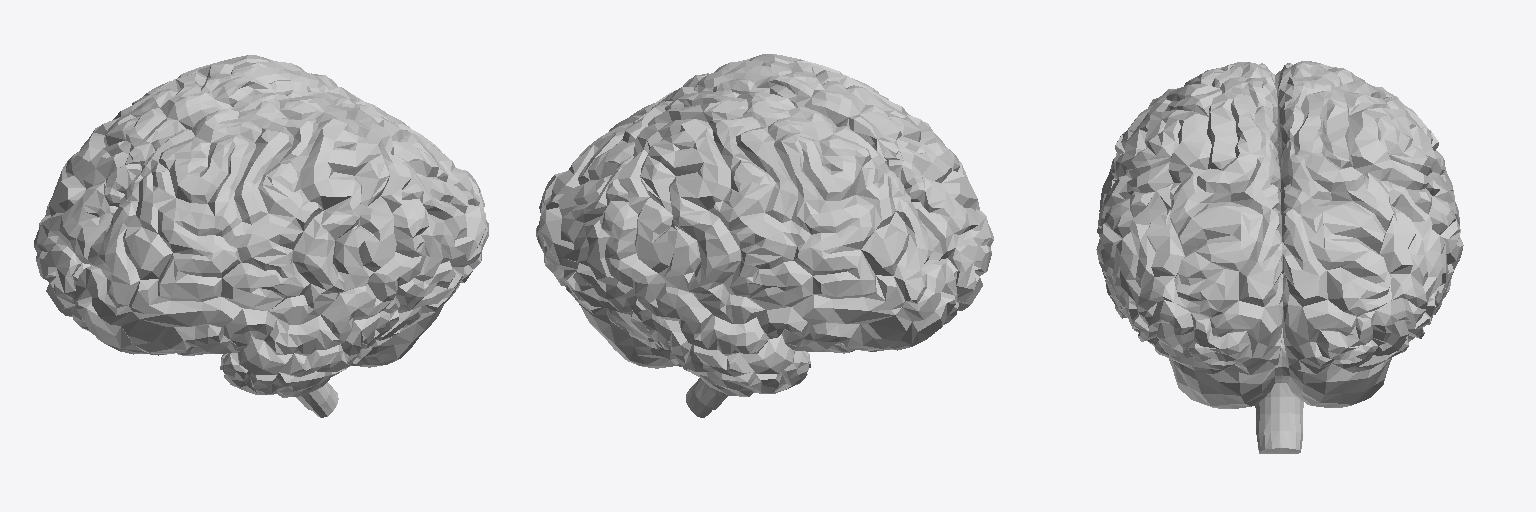
The model's file is brain.obj.
3 views of the same model, side by side, from view 1: azimuth 30°, elevation 25°; view 2: azimuth 150°, elevation 25°; view 3: azimuth 270°, elevation 25° (orthographic).
Parts seen in each view (by area): view 1: brain:Mesh group2; view 2: brain:Mesh group2; view 3: brain:Mesh group2.
Boxes of the visible parts, box(x1,y1,x2,y2) form: brain:Mesh group2: box(34, 55, 488, 417); brain:Mesh group2: box(536, 54, 993, 417); brain:Mesh group2: box(1096, 61, 1463, 453).
Bounding box in the file's own units: 4.06 × 3.4 × 3.32.